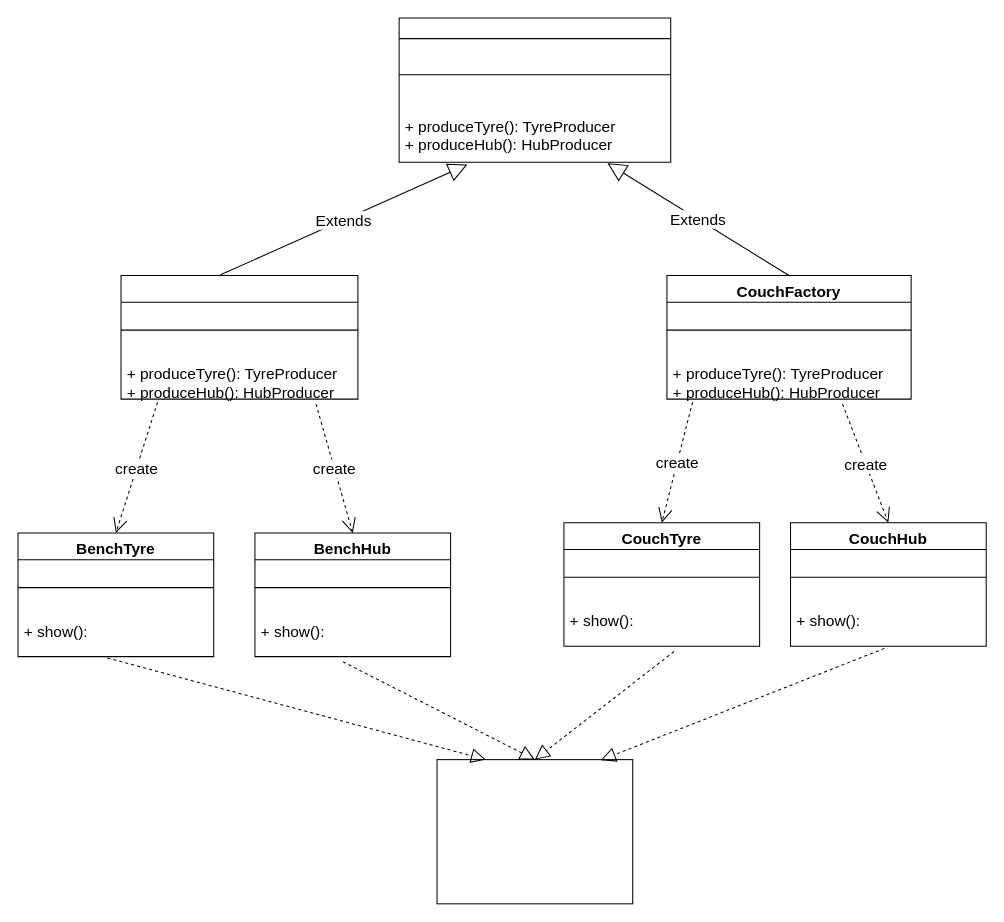
Image size: 1004x922. Some labels were removed from this diagram. The shapes that lost their labels are listed below. From the top down, each one's box as (x1, y1, x2, y2) in pixels, then its label:
(398, 17, 671, 162): AbstractFactory
(120, 274, 358, 399): BenchFactory
(436, 759, 633, 904): <<Interface>> IProduct + show():
